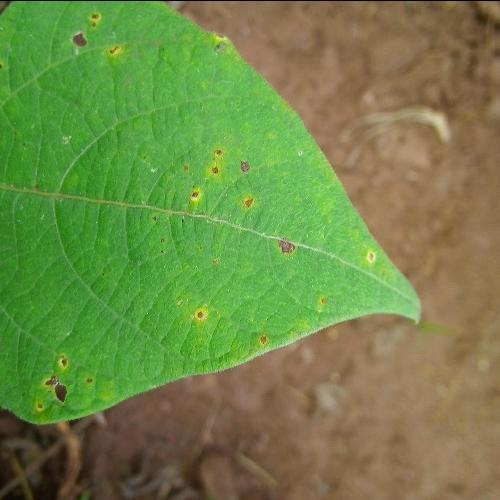hawar: (182, 142, 266, 218), (257, 222, 307, 271)
mozaik: (99, 88, 356, 363)
sehat: (0, 81, 83, 328)
